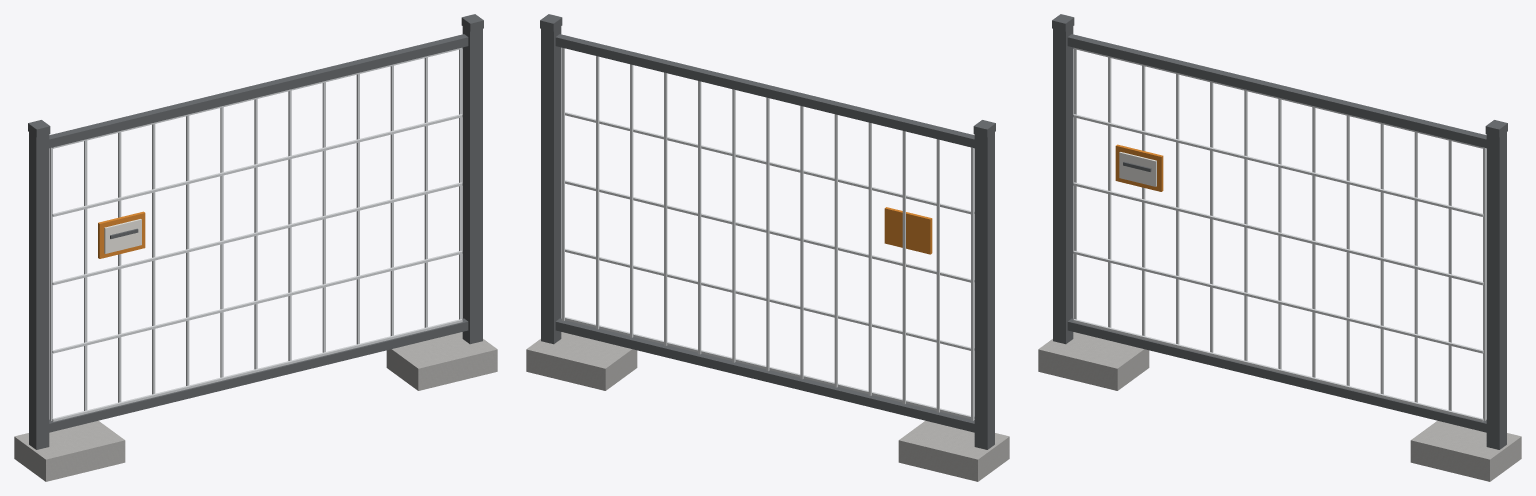
File: self-storage-facility-and-loading-bay-self-storage-fac-46ec801e__34725.glb
The picture shows the model from 3 angles, left to right: view 1: azimuth 30°, elevation 25°; view 2: azimuth 150°, elevation 25°; view 3: azimuth 330°, elevation 25°; orthographic projection.
Parts seen in each view (by area): view 1: self-storage-facility-and-loading-bay-site-fence-panel; view 2: self-storage-facility-and-loading-bay-site-fence-panel; view 3: self-storage-facility-and-loading-bay-site-fence-panel.
Boxes of the visible parts, left/top/right/bottom form: self-storage-facility-and-loading-bay-site-fence-panel: left=14, top=14, right=497, bottom=481; self-storage-facility-and-loading-bay-site-fence-panel: left=526, top=14, right=1009, bottom=481; self-storage-facility-and-loading-bay-site-fence-panel: left=1038, top=14, right=1521, bottom=481.
Bounding box in the file's own units: 2.96 × 2.15 × 0.3599.
Materials: 5 (1 with a texture image).
